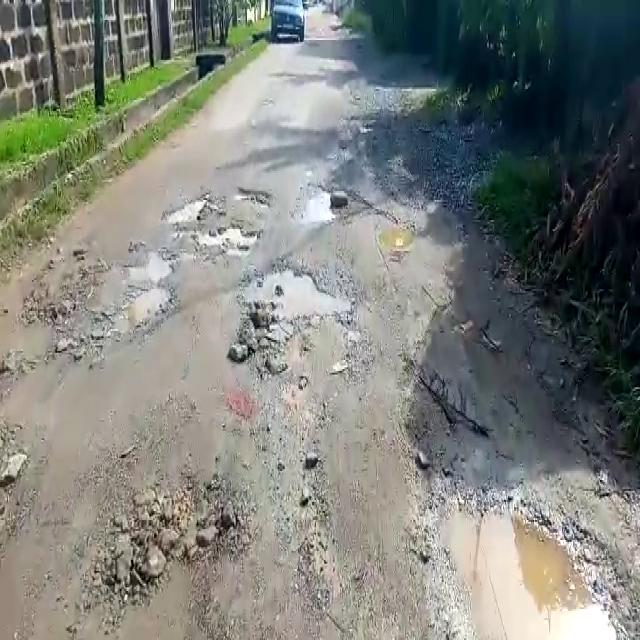Pothole: (418, 496, 638, 636), (247, 266, 356, 312), (194, 220, 259, 252), (130, 285, 176, 323), (295, 185, 338, 220), (162, 196, 209, 228), (122, 252, 172, 281), (376, 215, 414, 252)
